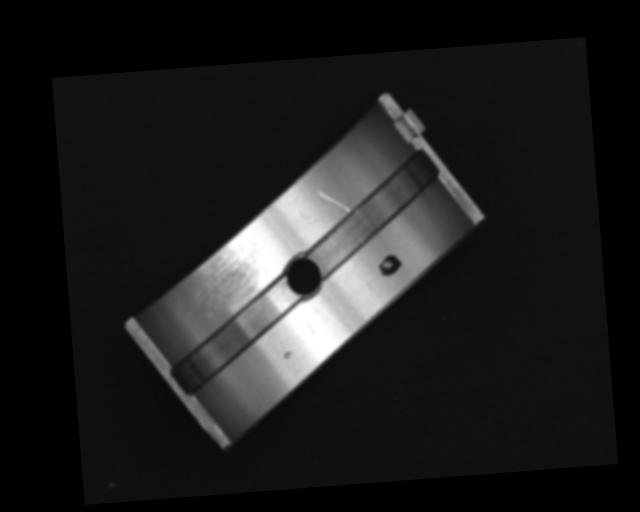blot: (377, 252, 403, 277)
bruise: (283, 350, 293, 359)
gap: (299, 145, 447, 276), (163, 281, 304, 396)
hole: (281, 253, 323, 302)
nick: (315, 186, 350, 216), (358, 268, 381, 302)
scratch: (188, 231, 268, 311)
